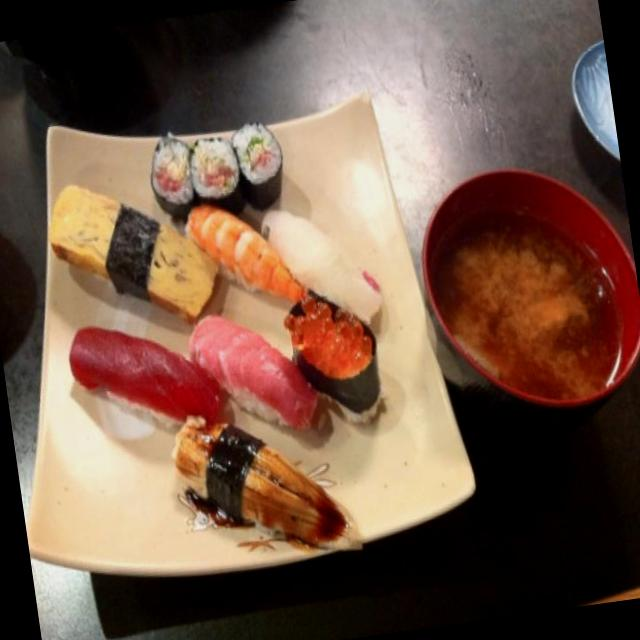Sushi: (28, 97, 414, 574)
